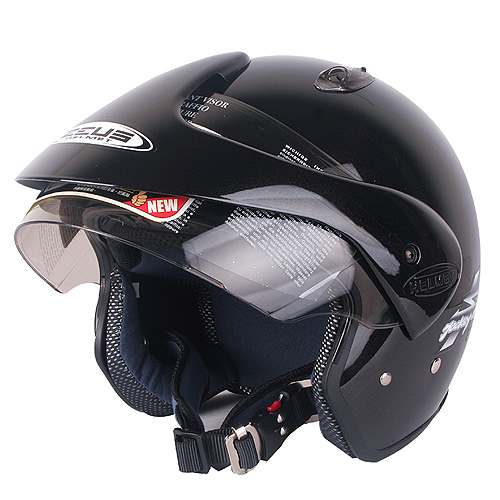helmet: (69, 71, 468, 435)
